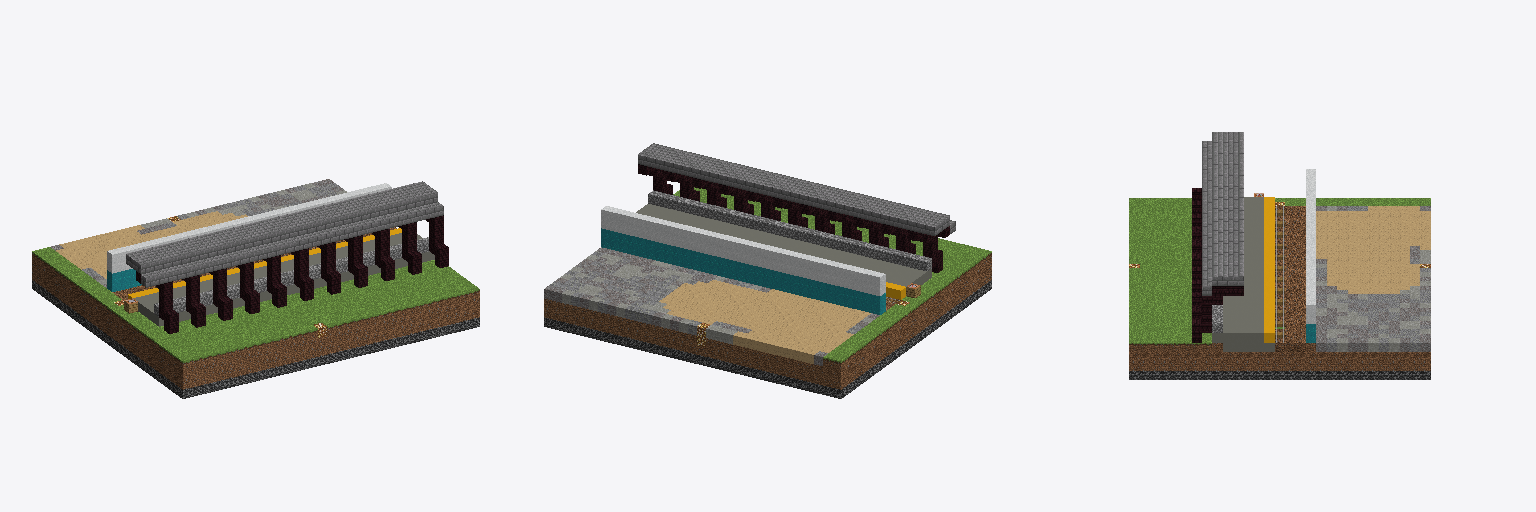
The picture shows the model from 3 angles: view 1: azimuth 30°, elevation 25°; view 2: azimuth 150°, elevation 25°; view 3: azimuth 270°, elevation 25°; orthographic projection.
Parts seen in each view (by area): view 1: flatworld__330_0_151_to_362_20_179; view 2: flatworld__330_0_151_to_362_20_179; view 3: flatworld__330_0_151_to_362_20_179.
Part boxes in pixels (x1,y1,x2,y2): flatworld__330_0_151_to_362_20_179: (32, 179, 479, 398); flatworld__330_0_151_to_362_20_179: (544, 143, 991, 398); flatworld__330_0_151_to_362_20_179: (1129, 132, 1430, 379).
Size of the model in its own units: 33 by 11 by 29.
Materials: 1 (1 with a texture image).